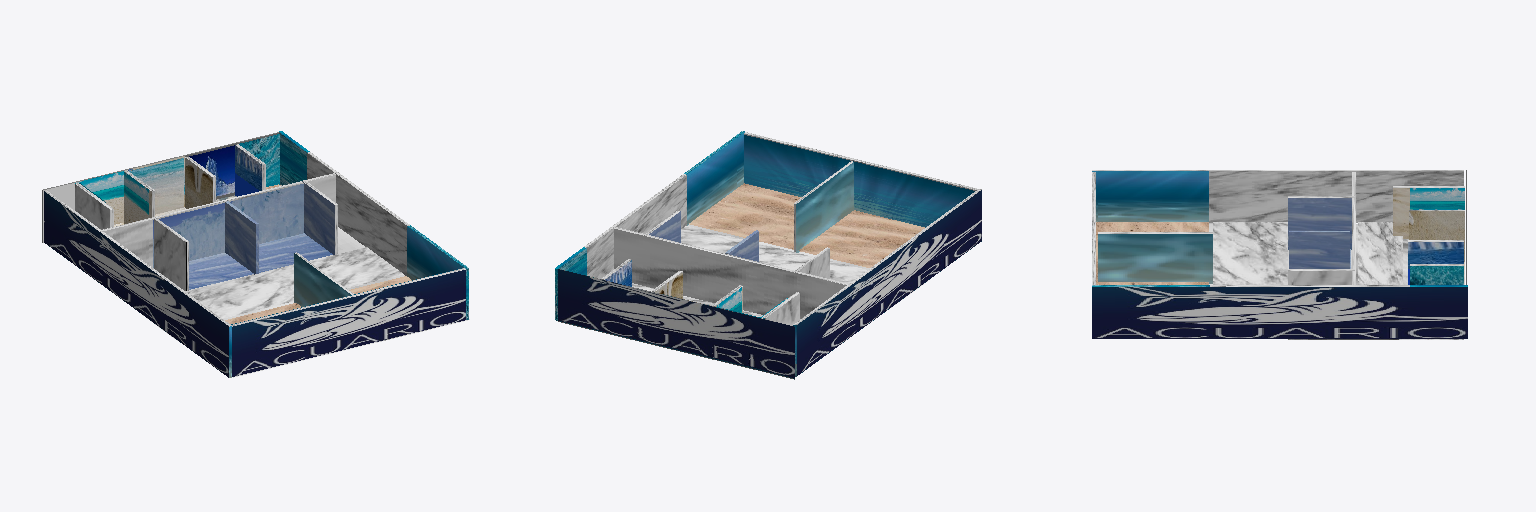
The picture shows the model from 3 angles: view 1: azimuth 30°, elevation 25°; view 2: azimuth 150°, elevation 25°; view 3: azimuth 270°, elevation 25°; orthographic projection.
Visible parts, largest first — view 1: pCube17, pCube2, pCube3, pPlane15, pPlane10, pPlane11, pCube12, pCube15, pCube16, pPlane9, pCube14, pCube18 (+10 smaller); view 2: pCube25, pCube2, pCube12, pPlane3, pPlane12, pCube3, pCube18, pPlane15, pCube6, pCube17, pCube15, pCube14 (+1 smaller); view 3: pCube3, pCube2, pCube18, pPlane15, pPlane16, pCube16, pCube14, pCube7, pPlane12, pCube13, pPlane13, pCube8 (+3 smaller).
Part boxes in pixels (x1,y1,x2,y2): pCube17: (232, 268, 465, 376); pCube2: (44, 190, 231, 377); pCube3: (279, 131, 468, 319); pPlane15: (185, 247, 403, 318); pPlane10: (153, 184, 303, 267); pPlane11: (189, 233, 332, 289); pCube12: (102, 173, 335, 266); pCube15: (302, 180, 337, 254); pCube16: (225, 201, 258, 274); pPlane9: (129, 158, 183, 214); pCube14: (152, 217, 188, 290); pCube18: (294, 252, 353, 306); pCube25: (556, 269, 794, 379); pCube2: (793, 189, 981, 376); pCube12: (614, 227, 847, 318); pPlane3: (744, 135, 974, 227); pPlane12: (689, 183, 924, 267); pCube3: (555, 131, 744, 320); pCube18: (794, 161, 853, 252); pPlane15: (681, 226, 866, 283); pCube6: (761, 292, 799, 325); pCube17: (744, 132, 977, 190); pCube15: (644, 211, 680, 242); pCube14: (794, 247, 829, 278); pCube3: (1092, 285, 1467, 338); pCube2: (1092, 170, 1463, 222); pCube18: (1098, 232, 1212, 283); pPlane15: (1213, 222, 1287, 284); pPlane16: (1358, 222, 1402, 284); pCube16: (1289, 231, 1349, 268); pCube14: (1288, 196, 1354, 249); pCube7: (1409, 210, 1464, 261); pPlane12: (1096, 222, 1208, 284); pCube13: (1408, 240, 1463, 284); pPlane13: (1410, 188, 1464, 209); pCube8: (1410, 264, 1463, 284).
Size of the model in its own units: 20.19 by 4.37 by 27.22.
27 materials, 12 textured.